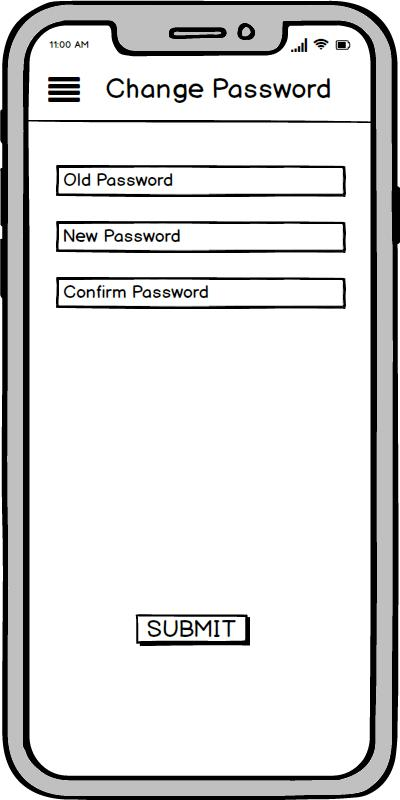EditText: (56, 221, 347, 254), (56, 277, 347, 310), (56, 165, 346, 198)
Icon: (47, 76, 83, 105)
Text: (104, 76, 330, 105)
TextButton: (134, 614, 251, 647)
Toolbar: (30, 58, 370, 121)
